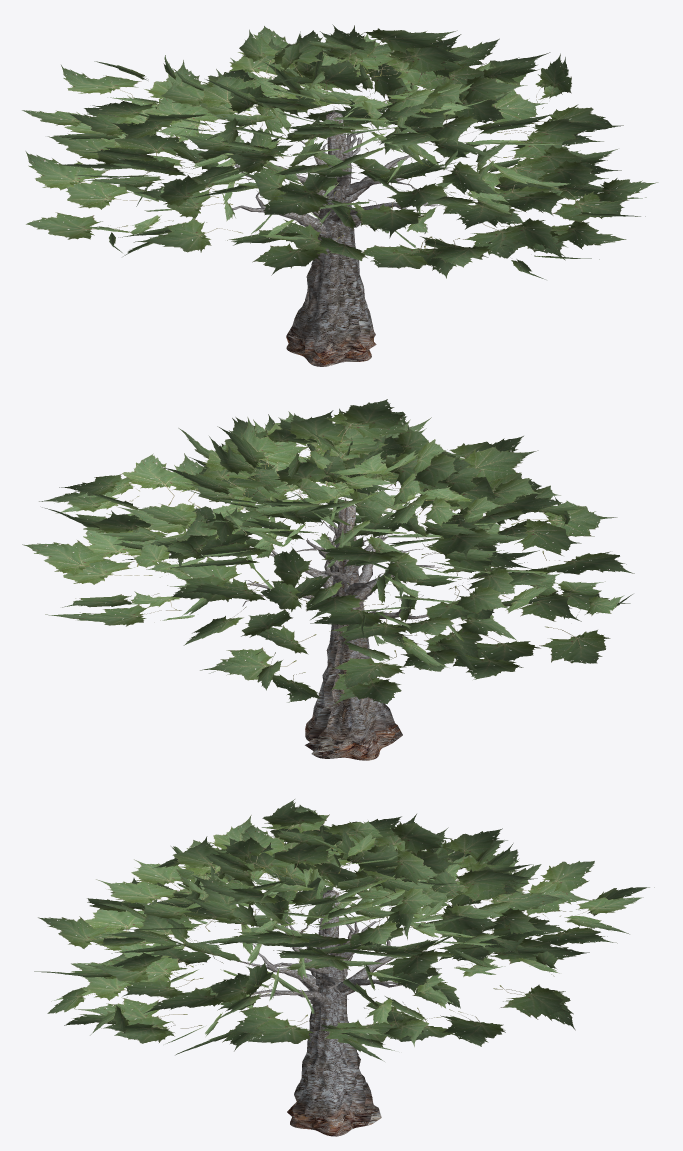
File: Tree2.fbx
3 views of the same model, one above another, from view 1: azimuth 30°, elevation 25°; view 2: azimuth 150°, elevation 25°; view 3: azimuth 270°, elevation 25° (orthographic). The views are drawn at different scales.
Parts seen in each view (by area): view 1: Tree_1, Tree_0; view 2: Tree_1, Tree_0; view 3: Tree_1, Tree_0.
Part boxes in pixels (x1,y1,x2,y2): Tree_1: (22,24,658,279); Tree_0: (232,108,443,366); Tree_1: (22,399,634,705); Tree_0: (242,497,444,760); Tree_1: (34,799,654,1061); Tree_0: (236,888,439,1136).
Size of the model in its own units: 442 by 222 by 461.
